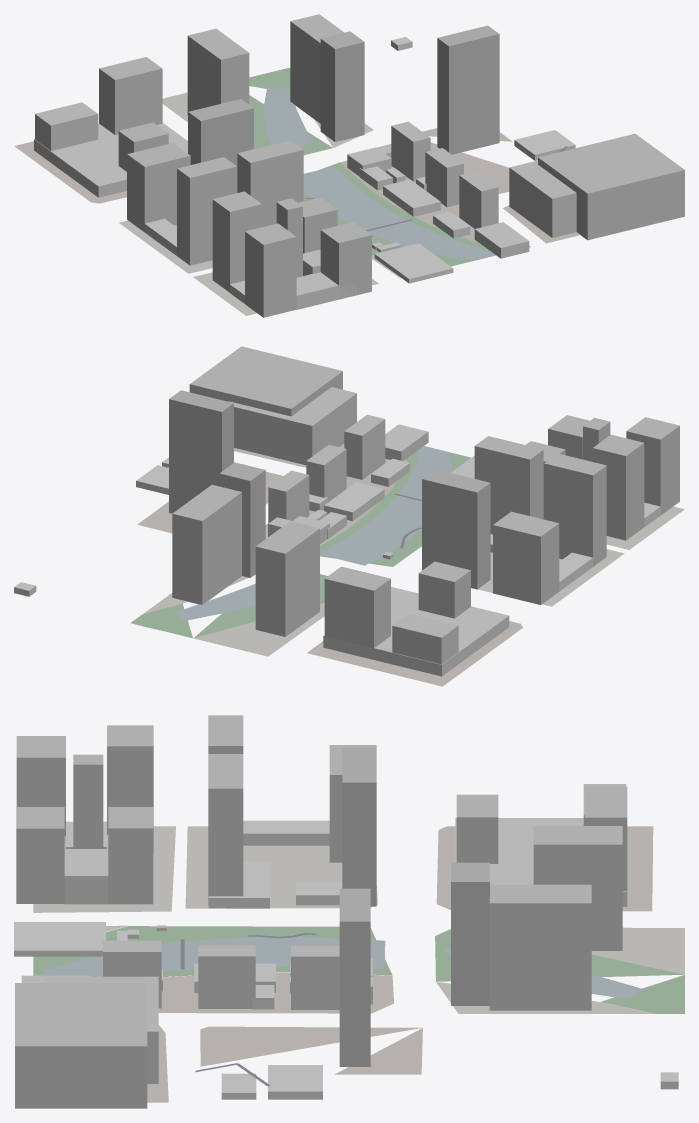
Rendered from 118_78_mid.glb.
3 views of the same model, one above another, from view 1: azimuth 30°, elevation 25°; view 2: azimuth 150°, elevation 25°; view 3: azimuth 270°, elevation 25° (orthographic). The views are drawn at different scales.
Size of the model in its own units: 511 by 124 by 515.
